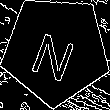N_N: (29, 20, 83, 81)
